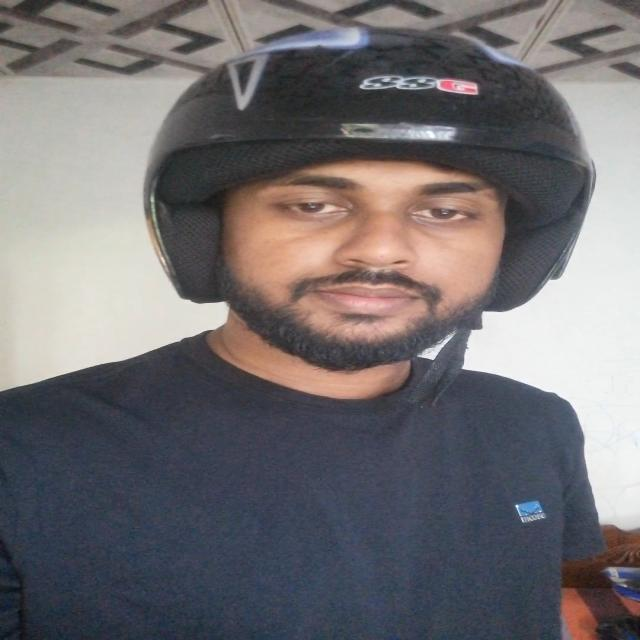Helmet_Wearer: (135, 24, 640, 422)
Person: (1, 27, 602, 640)
